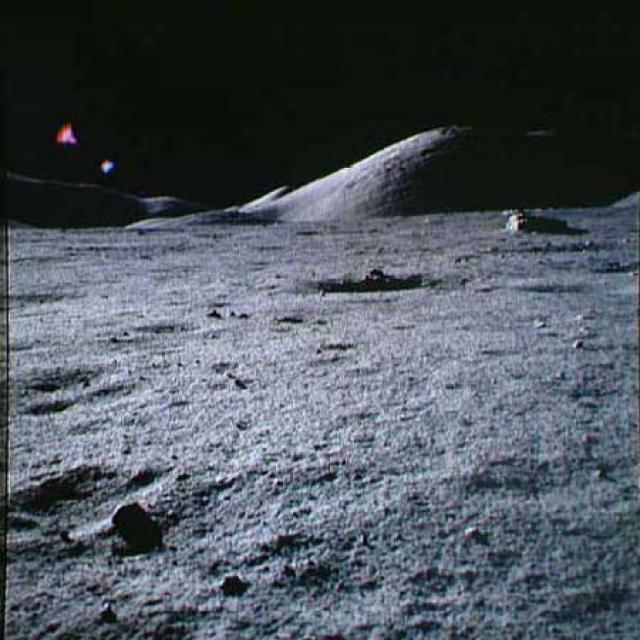crater: (5, 464, 150, 538), (297, 272, 436, 295), (140, 314, 215, 335), (22, 367, 100, 387)
rock: (504, 207, 577, 236)
